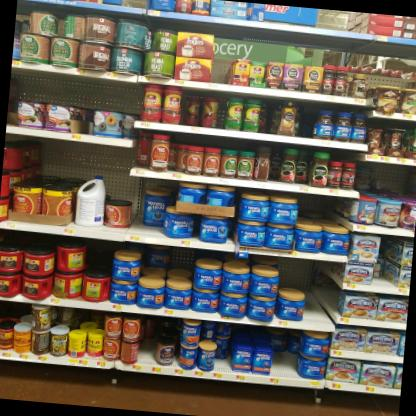empty_space: (305, 262, 339, 330)
